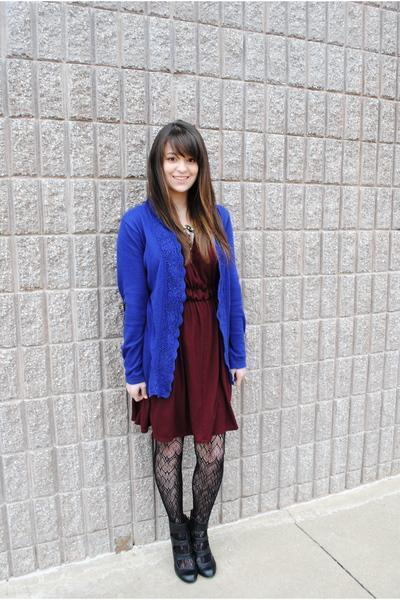dress: (131, 252, 237, 443)
jacket: (114, 204, 245, 395)
shoe: (167, 500, 216, 582)
